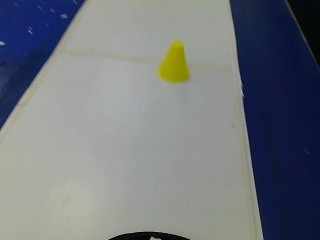cone: (157, 39, 198, 84)
